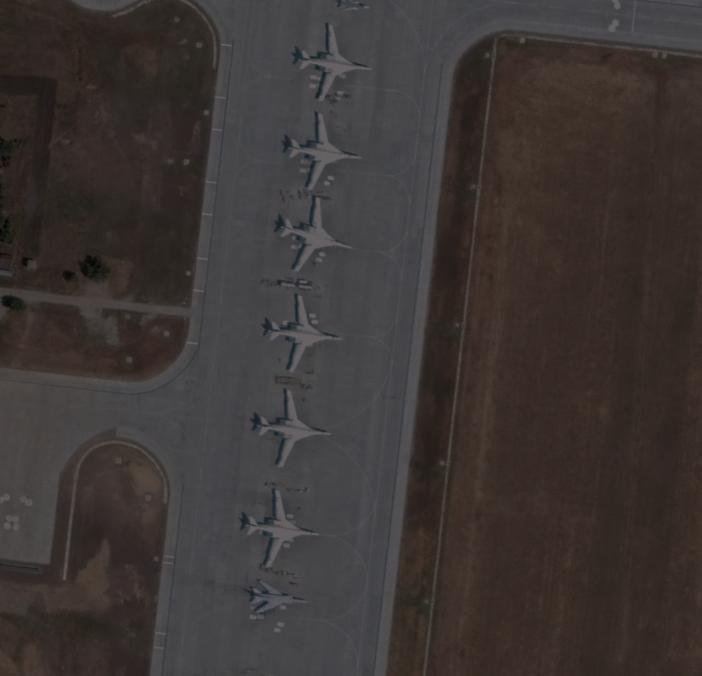A12: (244, 574, 309, 619)
A6: (268, 194, 360, 273), (251, 291, 343, 370), (247, 388, 339, 467), (234, 484, 326, 563), (289, 21, 381, 99), (279, 108, 371, 186)
